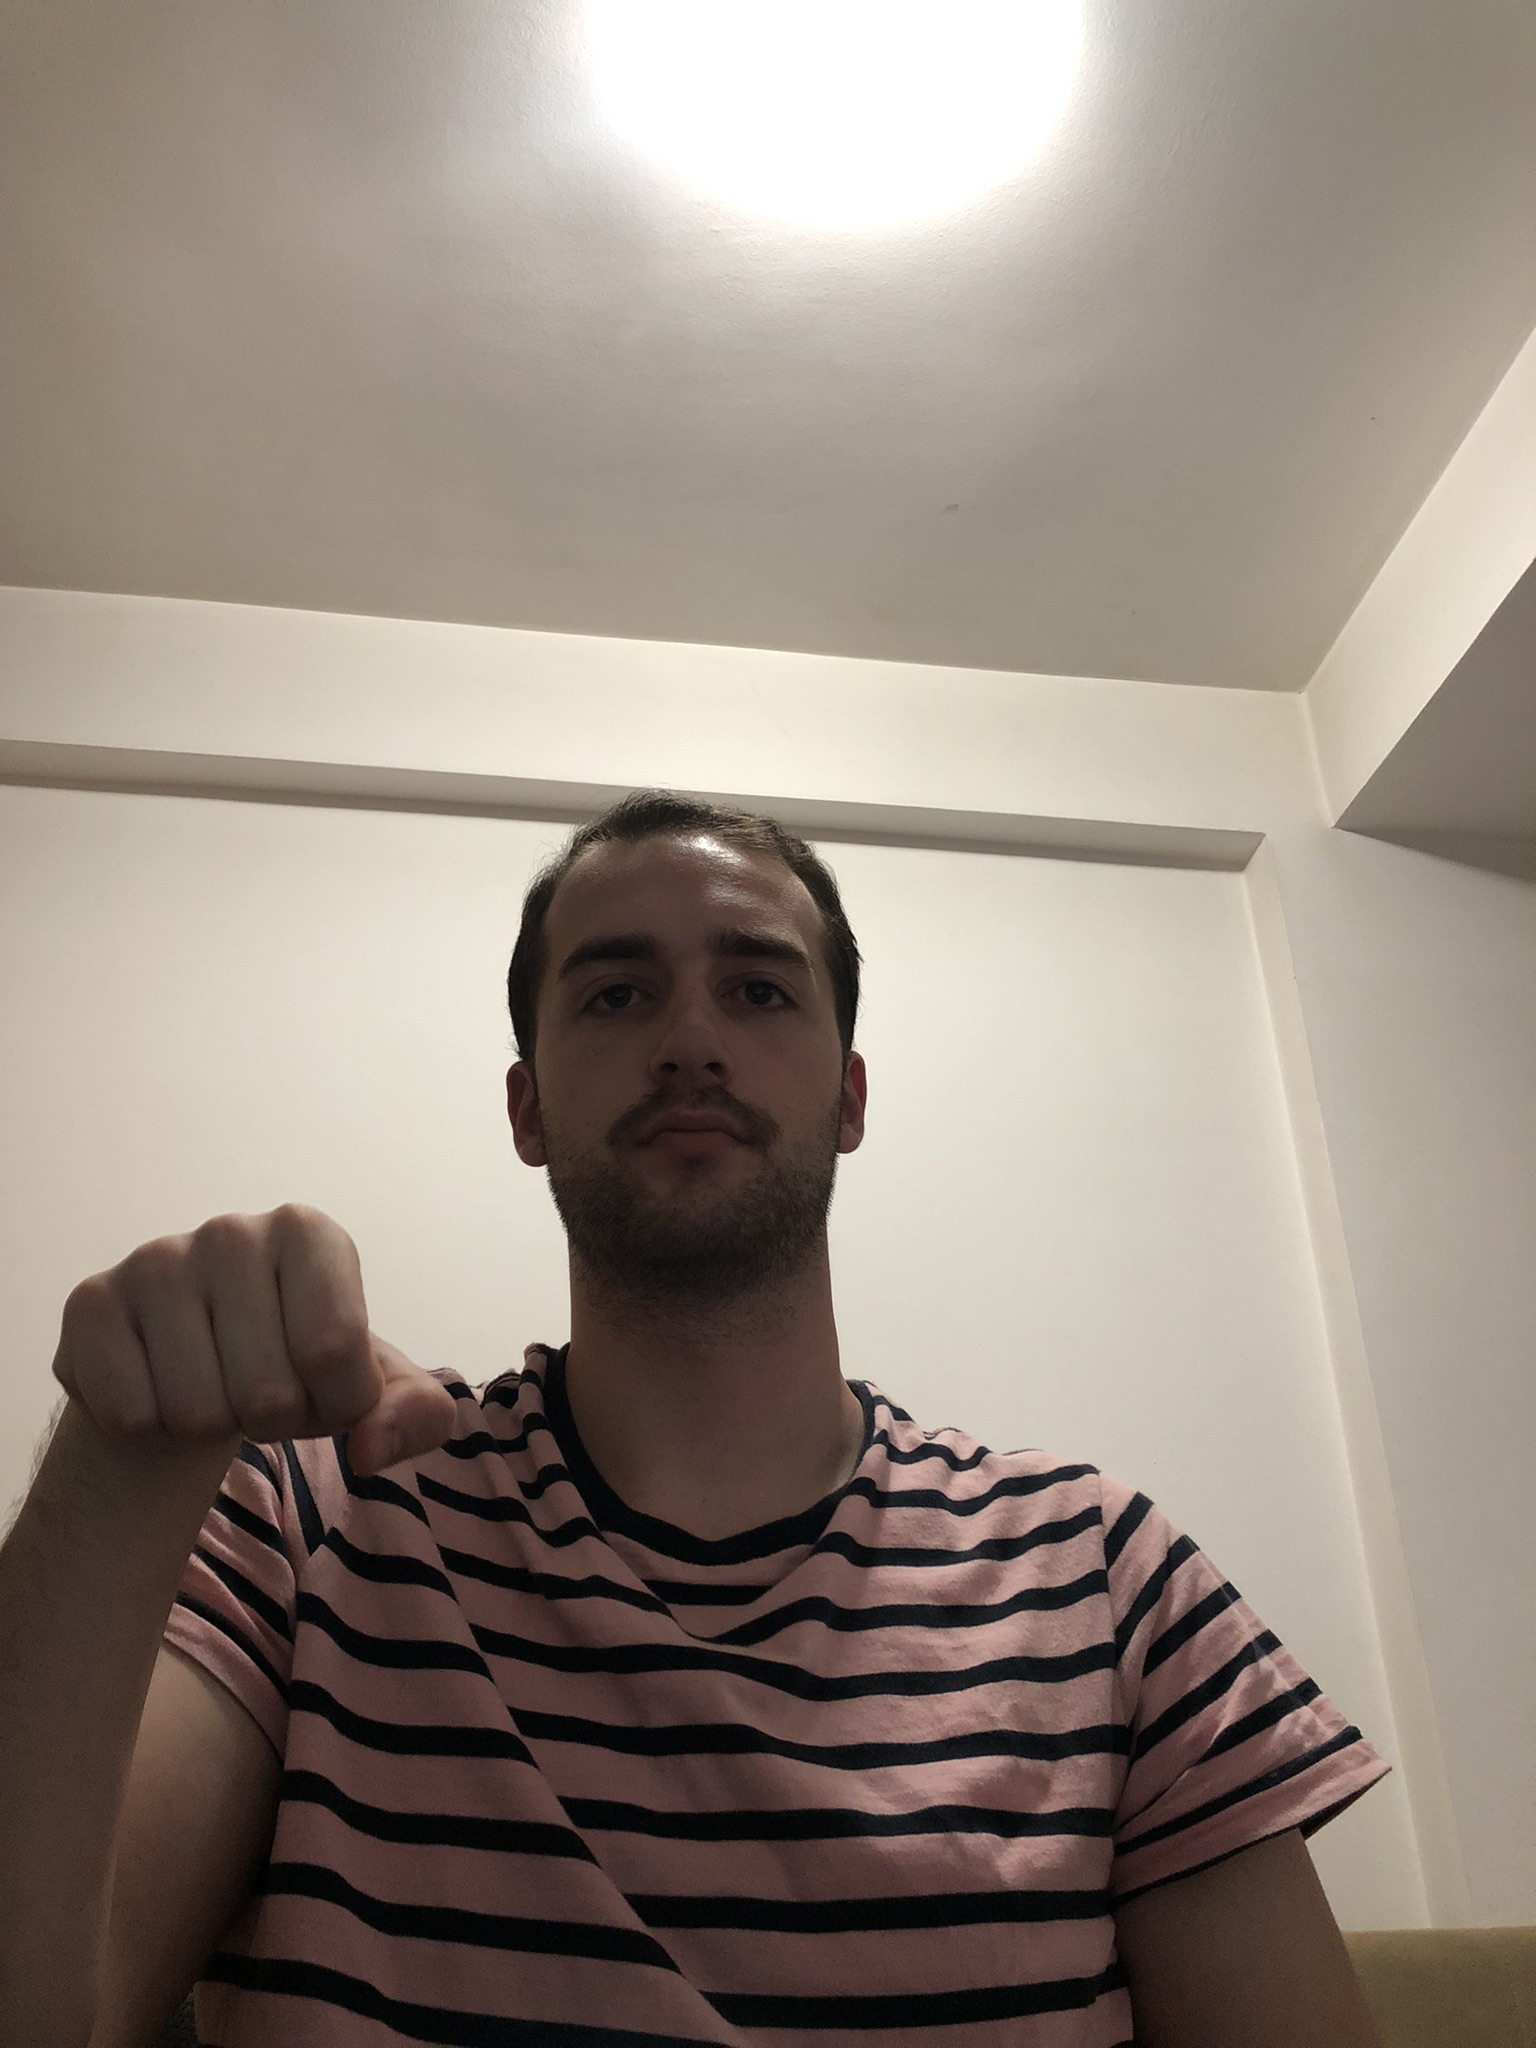Yes: (52, 1201, 461, 1516)
